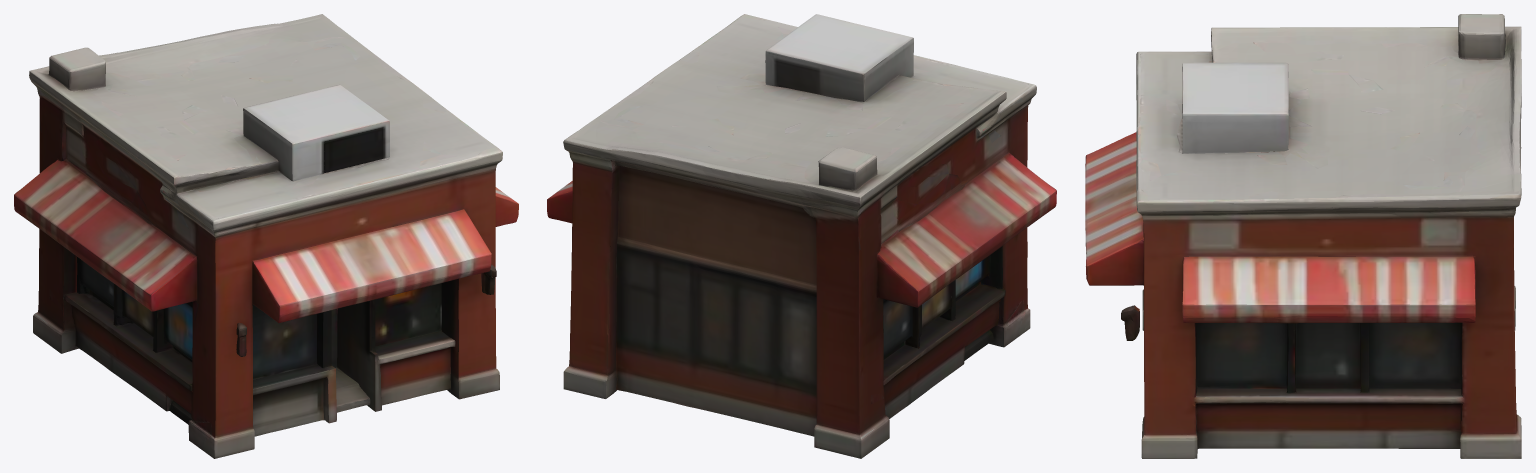
Rendered from convenience store.glb.
3 renders of one model, left to right at view 1: azimuth 30°, elevation 25°; view 2: azimuth 150°, elevation 25°; view 3: azimuth 270°, elevation 25°, orthographic. The views are drawn at different scales.
Parts seen in each view (by area): view 1: world; view 2: world; view 3: world.
Boxes of the visible parts, x1,y1,x2,y2 form: world: (14, 14, 518, 458); world: (547, 14, 1056, 458); world: (1085, 14, 1521, 458).
Bounding box in the file's own units: 1 × 0.7244 × 0.9589.
1 material, 1 textured.
